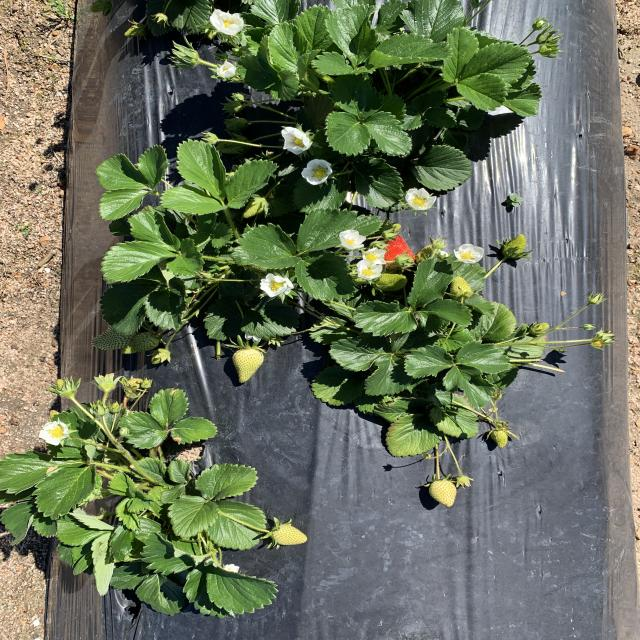unripe: (364, 222, 422, 272)
